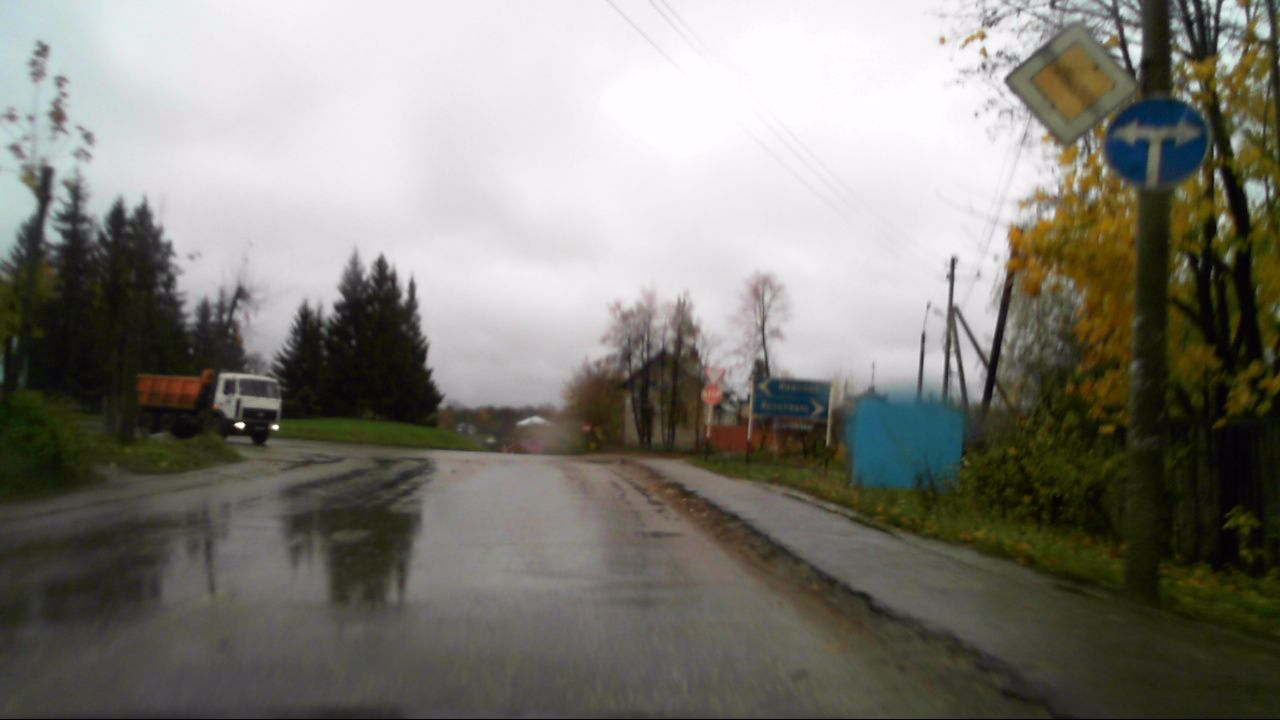main road: (1003, 24, 1138, 149)
